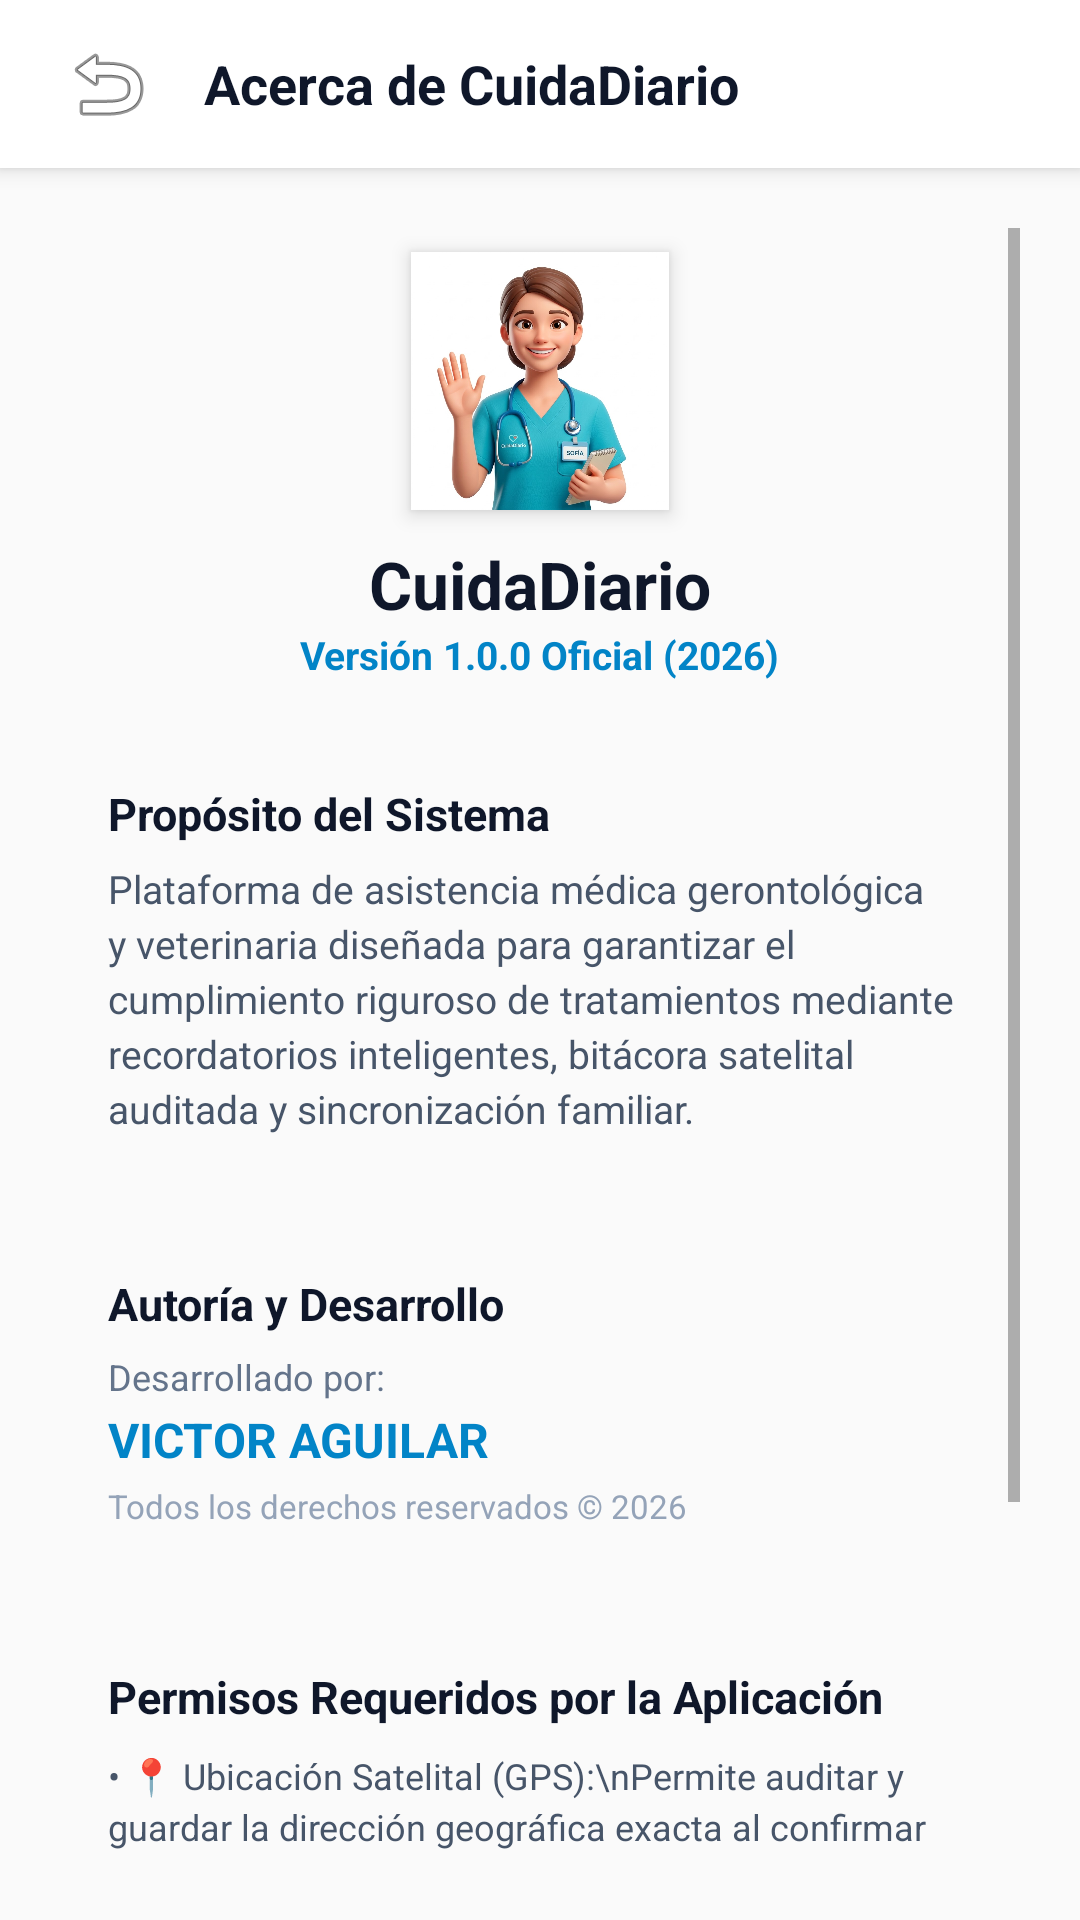

Where to tap for icons on this 1080 × 1920 app screen, as point (x, y):
nurse: point (531, 388)
Regresar: point (109, 84)
